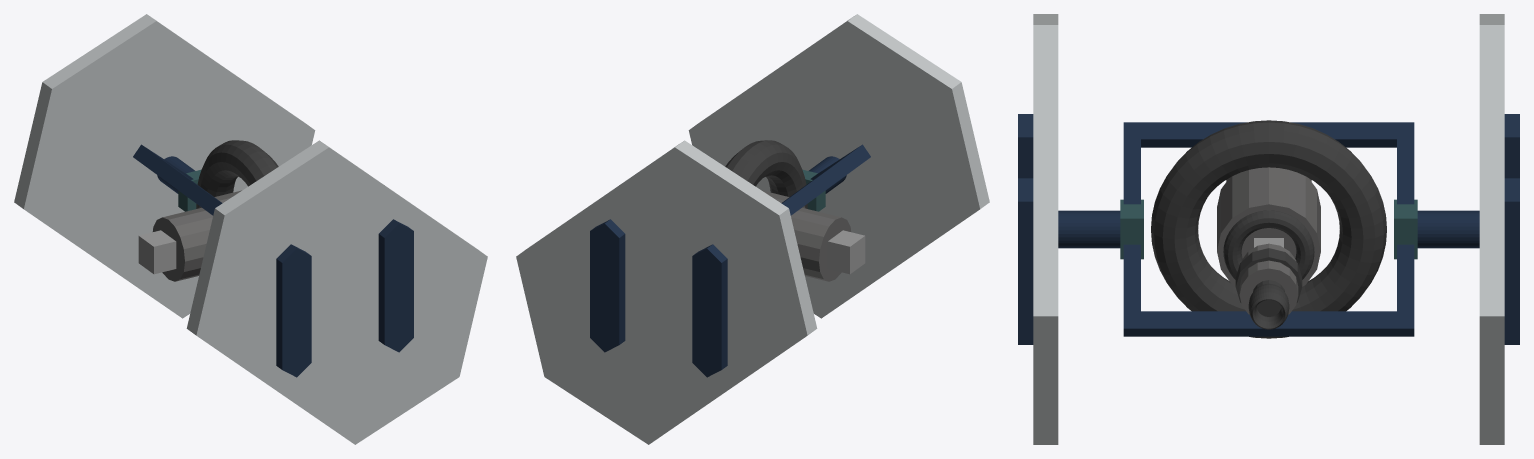
The model's file is Gegner12.fbx.
3 views of the same model, side by side, from view 1: azimuth 30°, elevation 25°; view 2: azimuth 150°, elevation 25°; view 3: azimuth 270°, elevation 25° (orthographic). The views are drawn at different scales.
Parts seen in each view (by area): view 1: Cube; view 2: Cube; view 3: Cube.
Part boxes in pixels (x1,y1,x2,y2): Cube: (14,14,487,444); Cube: (516,14,989,444); Cube: (1018,14,1519,444).
Size of the model in its own units: 570 by 568 by 657.
